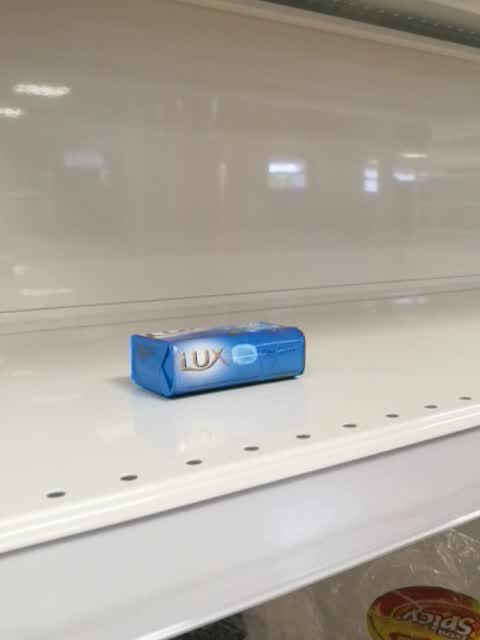soap: (130, 320, 307, 400)
